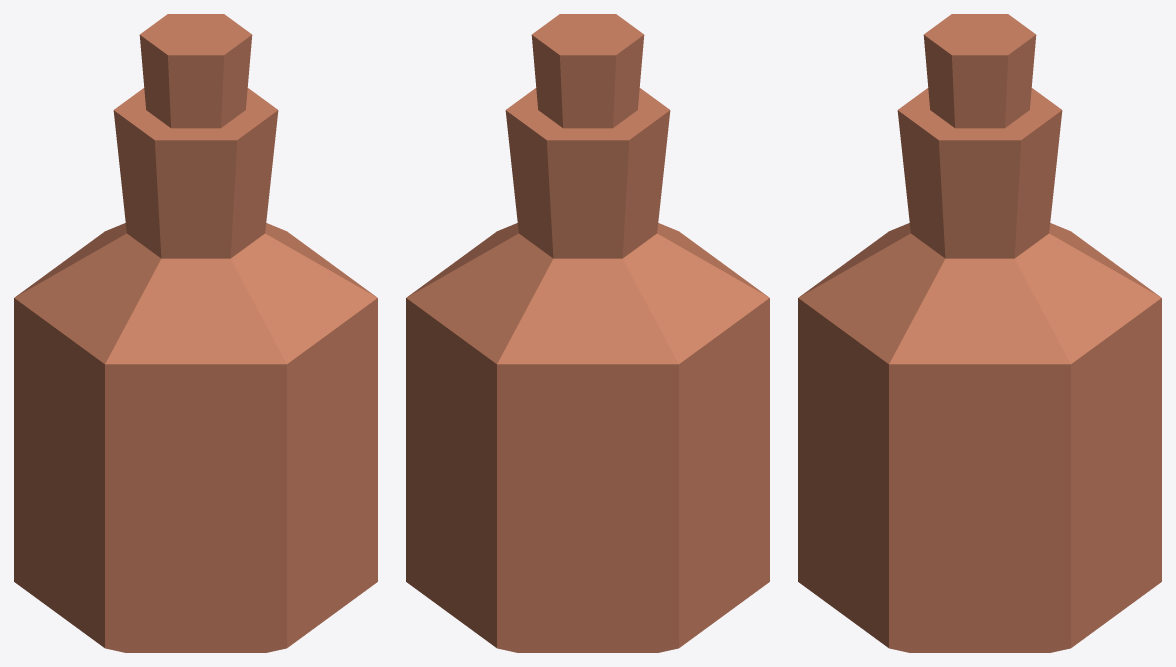
The model's file is bottle-large.obj.
The picture shows the model from 3 angles, left to right: view 1: azimuth 30°, elevation 25°; view 2: azimuth 150°, elevation 25°; view 3: azimuth 270°, elevation 25°; orthographic projection.
Bounding box in the file's own units: 0.0724 × 0.1439 × 0.0837.
